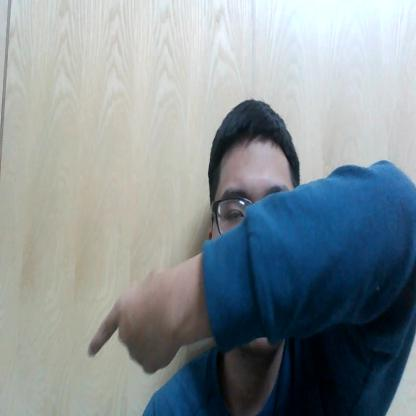right: (74, 254, 185, 394)
